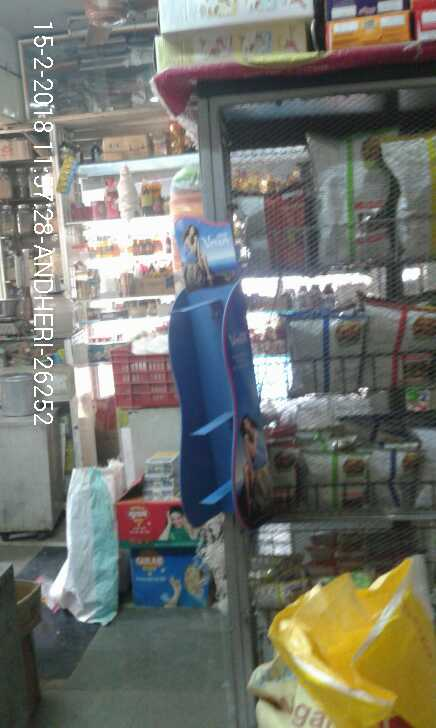reject: (148, 281, 258, 460)
